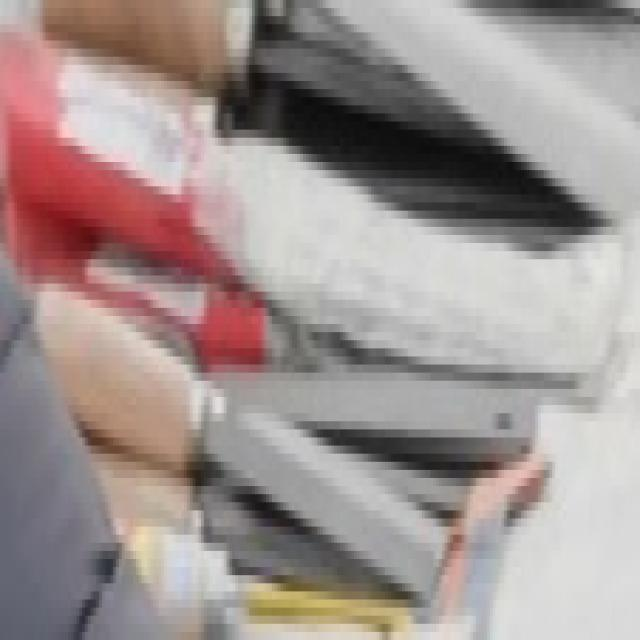knives: (99, 288, 505, 611)
